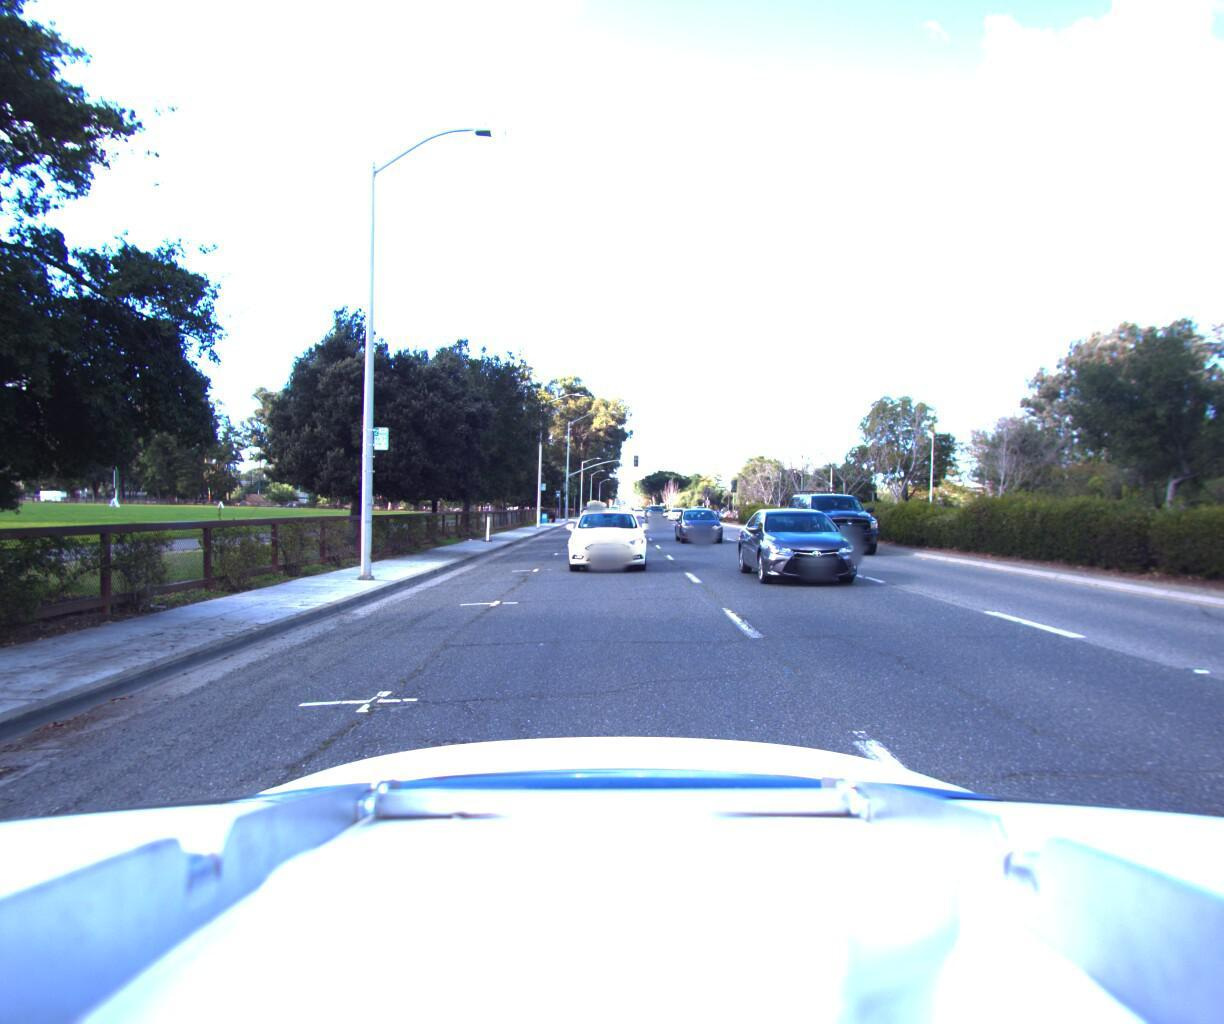car: (742, 493, 890, 590), (784, 481, 894, 555), (563, 499, 659, 570), (674, 502, 735, 542), (644, 502, 668, 520), (664, 502, 687, 517)
